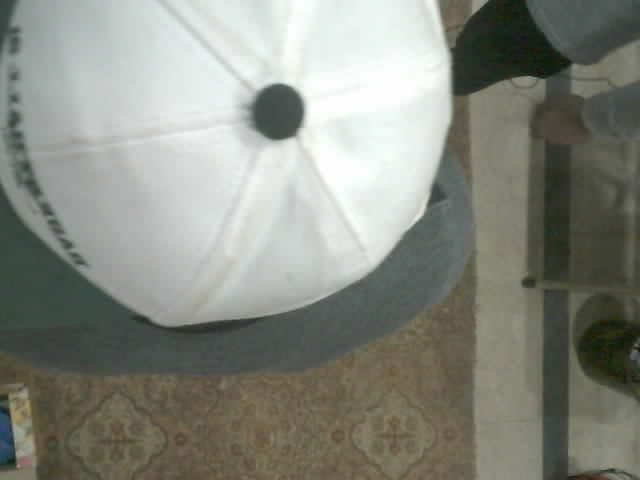cap: (0, 0, 451, 327)
